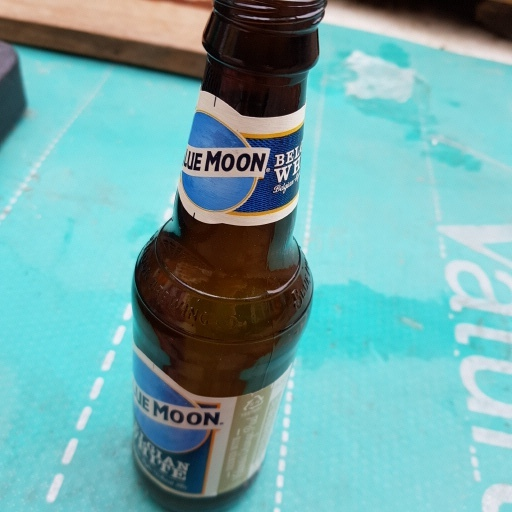Glass_1: (129, 1, 329, 511)
